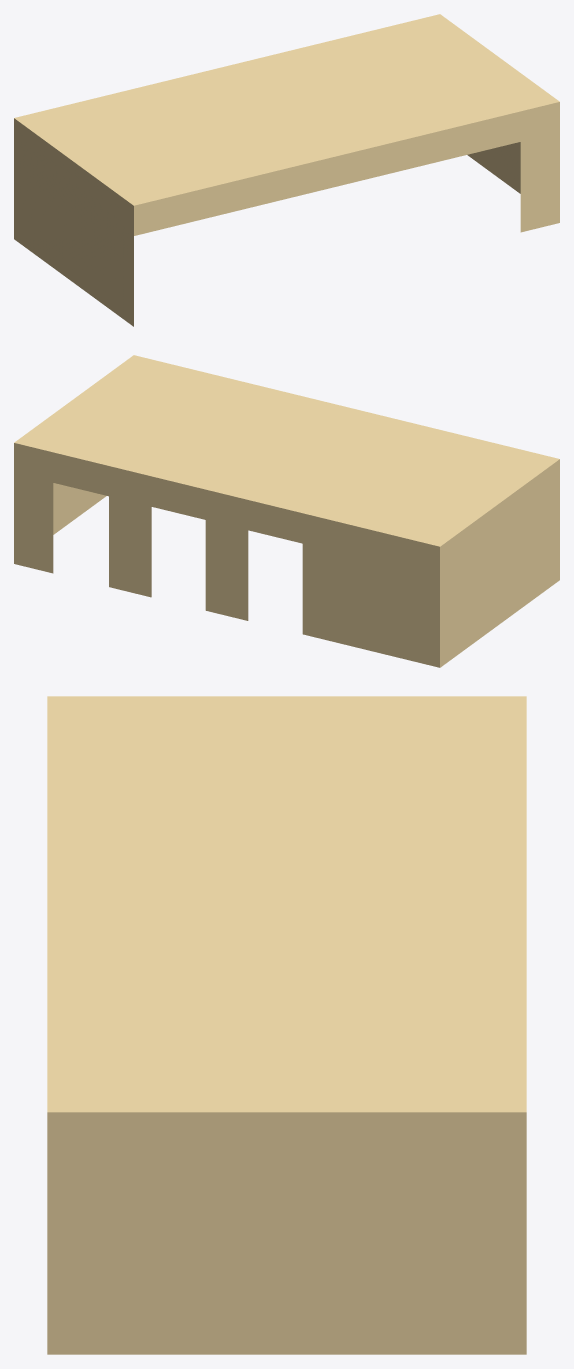
Rendered from Salle_2_Roof.fbx.
The picture shows the model from 3 angles, top to bottom: view 1: azimuth 30°, elevation 25°; view 2: azimuth 150°, elevation 25°; view 3: azimuth 270°, elevation 25°; orthographic projection. The views are drawn at different scales.
Parts seen in each view (by area): view 1: Salle_2_Roof; view 2: Salle_2_Roof; view 3: Salle_2_Roof.
Part boxes in pixels (bbox=[...]): Salle_2_Roof: bbox=[14, 14, 559, 326]; Salle_2_Roof: bbox=[14, 355, 559, 667]; Salle_2_Roof: bbox=[47, 696, 526, 1354].
Size of the model in its own units: 4400 by 1195 by 2144.
1 material, 1 textured.
